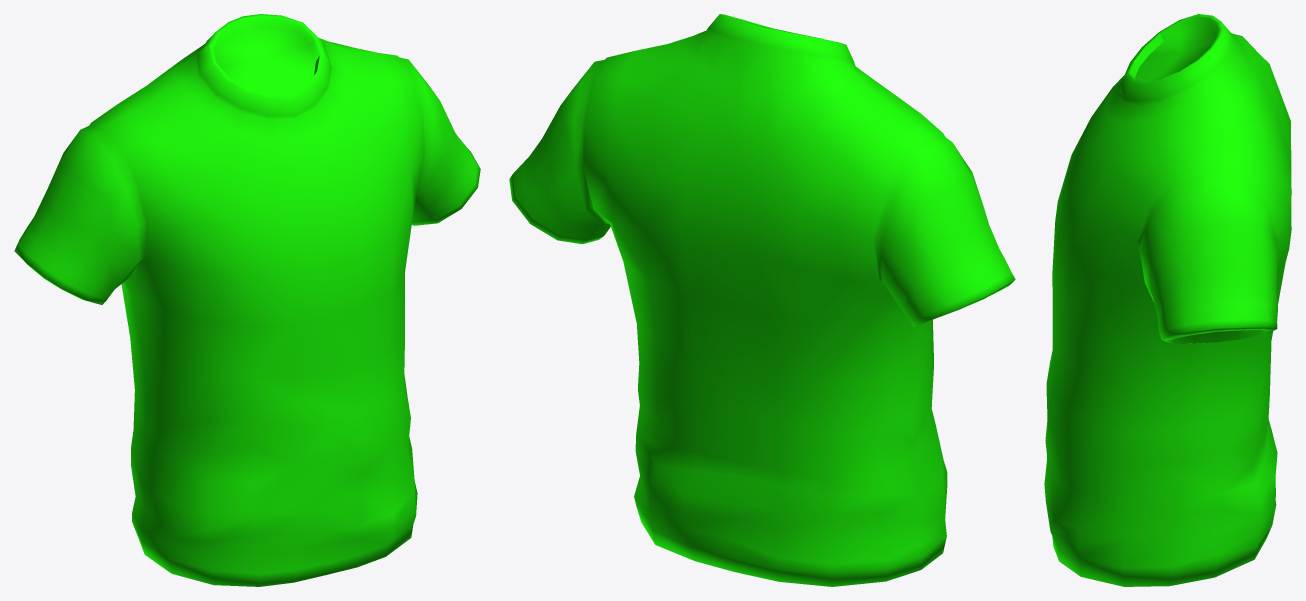
The model's file is shirt.glb.
3 renders of one model, left to right at view 1: azimuth 30°, elevation 25°; view 2: azimuth 150°, elevation 25°; view 3: azimuth 270°, elevation 25°, orthographic. The views are drawn at different scales.
Parts seen in each view (by area): view 1: shirt; view 2: shirt; view 3: shirt.
Boxes of the visible parts, left/top/right/bottom form: shirt: left=14, top=14, right=480, bottom=586; shirt: left=509, top=14, right=1015, bottom=586; shirt: left=1044, top=14, right=1291, bottom=586.
Bounding box in the file's own units: 0.5972 × 0.6383 × 0.2822.
